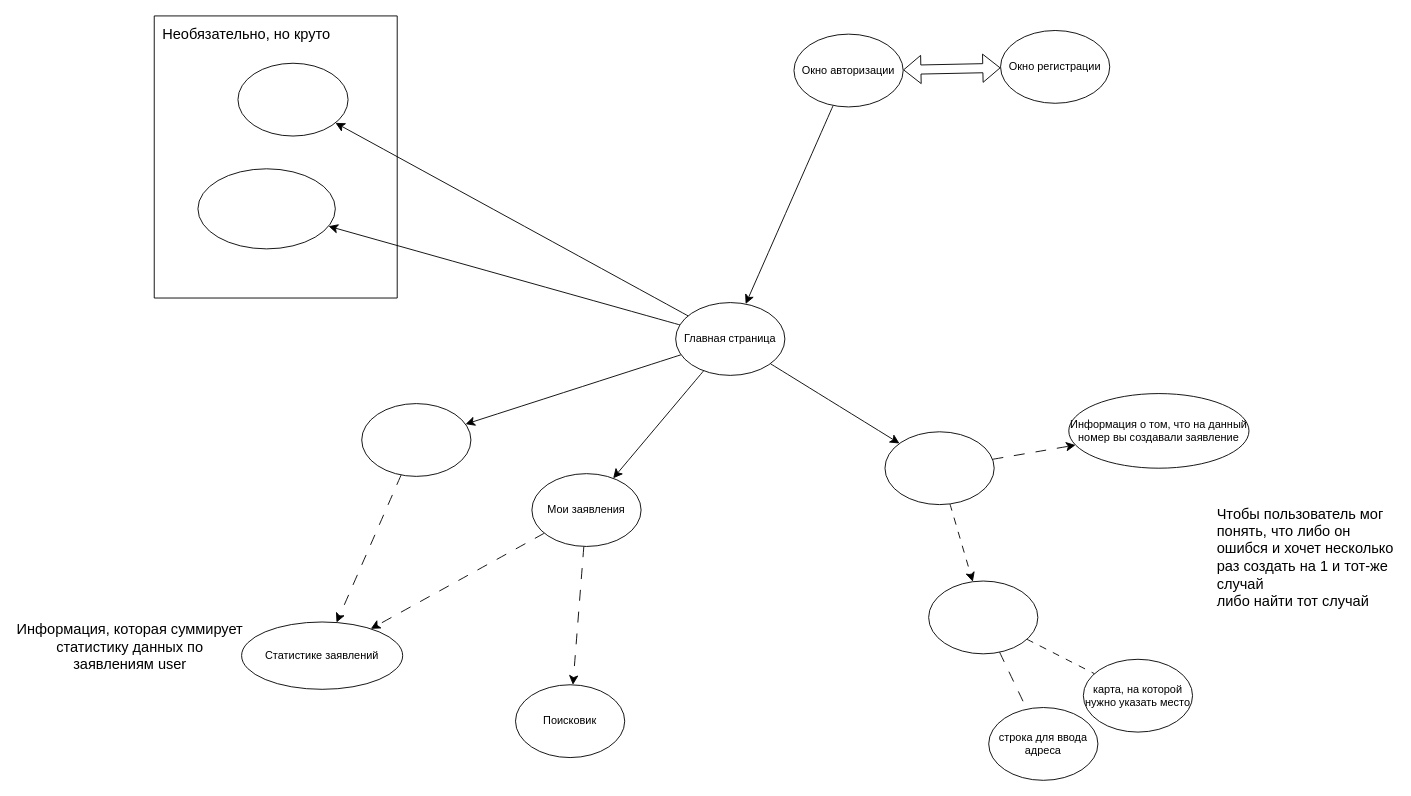
This 1411x796 diagram has some shape labels left out. The shapes that lost their labels are listed below. From the top down, each one's centre as x and y in pixels, then its label:
At point (292, 99): "Общая статистика по регионам".
At point (266, 208): "Тепловая карта подтверждённых нарушений".
At point (416, 439): "Профиль пользователя".
At point (939, 468): "Создать заявление".
At point (983, 617): "popup меню".
